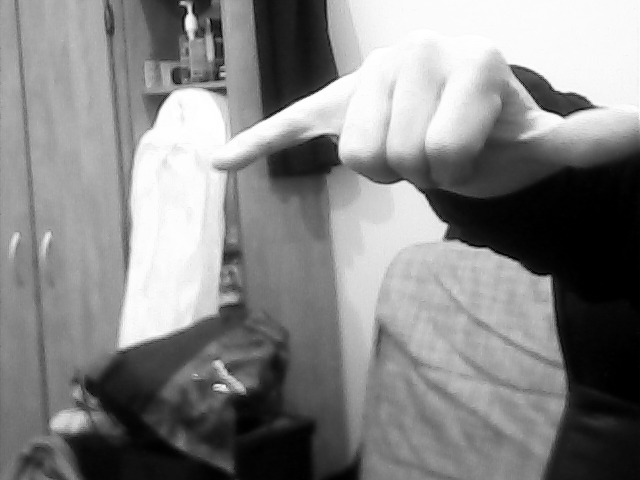aloha: (208, 29, 640, 207)
